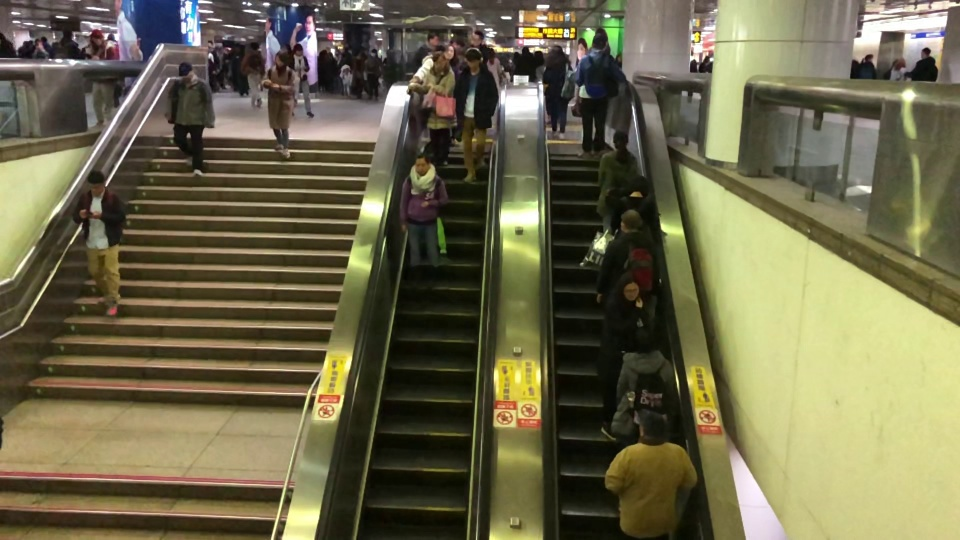person_head: (638, 411, 666, 439), (619, 272, 640, 302), (619, 209, 644, 232), (85, 170, 107, 196), (636, 330, 658, 350), (627, 175, 647, 194), (464, 48, 481, 69), (413, 152, 430, 173), (612, 129, 629, 148), (177, 62, 193, 81), (274, 48, 289, 66), (591, 33, 607, 49), (431, 51, 445, 69), (90, 31, 104, 46), (471, 31, 484, 44), (444, 44, 455, 59), (427, 32, 440, 44), (61, 27, 72, 38), (249, 41, 260, 52), (293, 43, 303, 55), (552, 44, 563, 54), (521, 45, 530, 56), (896, 56, 905, 66), (920, 46, 930, 55), (864, 53, 874, 61), (0, 32, 7, 43), (535, 50, 544, 58), (489, 47, 496, 57), (370, 49, 377, 55), (691, 58, 696, 66), (356, 50, 361, 57), (344, 66, 349, 72), (704, 55, 710, 60)
person_vbox: (604, 411, 698, 540), (72, 170, 127, 317), (595, 272, 641, 444), (611, 330, 676, 445), (594, 209, 659, 312), (574, 33, 626, 161), (399, 152, 447, 290), (452, 49, 500, 184), (166, 62, 216, 178), (409, 50, 455, 167), (595, 129, 638, 234), (260, 48, 297, 161), (85, 31, 119, 126), (543, 43, 573, 139), (610, 174, 655, 233), (240, 40, 265, 109), (292, 43, 314, 117), (409, 31, 440, 72), (904, 47, 938, 82), (50, 26, 80, 59), (364, 48, 381, 102), (513, 45, 535, 80), (486, 46, 502, 92), (351, 50, 364, 100), (687, 57, 698, 103), (860, 53, 877, 78), (890, 56, 906, 80), (0, 32, 15, 57), (340, 64, 351, 96), (535, 50, 544, 79), (699, 53, 711, 72)
